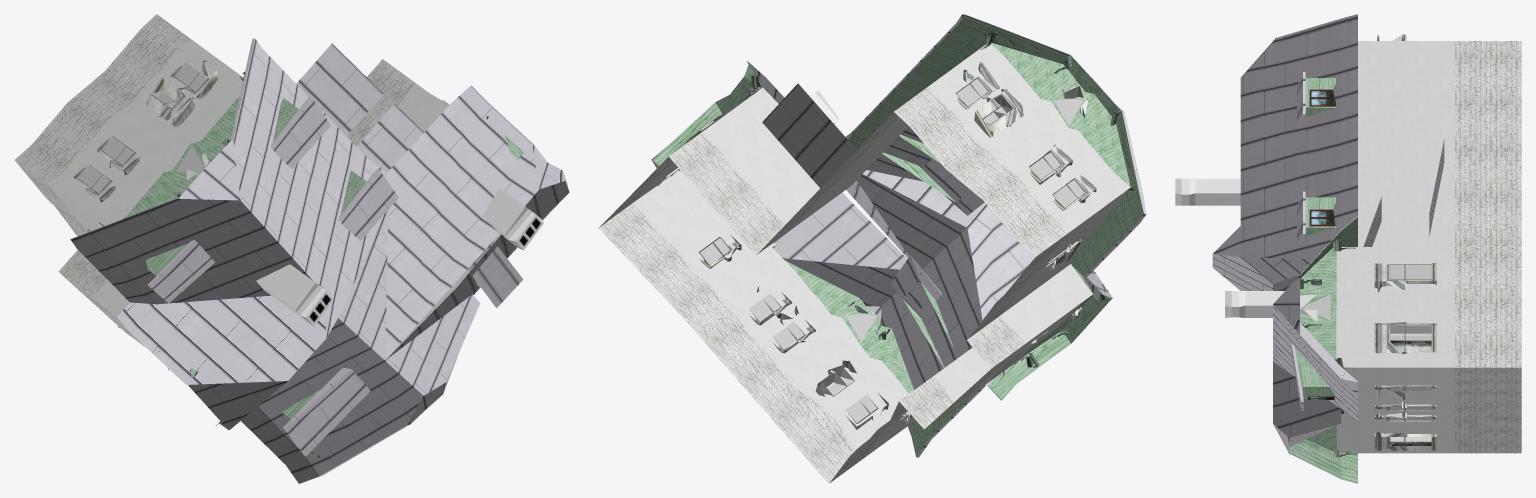
File: Rannamae_tee_3-origo.obj
The picture shows the model from 3 angles, left to right: view 1: azimuth 30°, elevation 25°; view 2: azimuth 150°, elevation 25°; view 3: azimuth 270°, elevation 25°; orthographic projection. The views are drawn at different scales.
Parts seen in each view (by area): view 1: Rannamae_tee_3; view 2: Rannamae_tee_3; view 3: Rannamae_tee_3.
Boxes of the visible parts, x1=… form: Rannamae_tee_3: x1=15, y1=14, x2=569, y2=483; Rannamae_tee_3: x1=598, y1=14, x2=1146, y2=483; Rannamae_tee_3: x1=1175, y1=14, x2=1521, y2=483.
Bounding box in the file's own units: 23.38 × 20.5 × 14.42.
